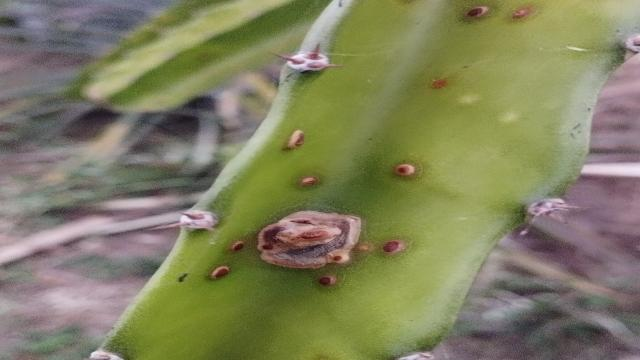stemcanker: (387, 158, 423, 182), (293, 171, 325, 195), (375, 234, 408, 257), (205, 261, 234, 284), (283, 127, 309, 152), (314, 271, 341, 290), (226, 236, 251, 255)
